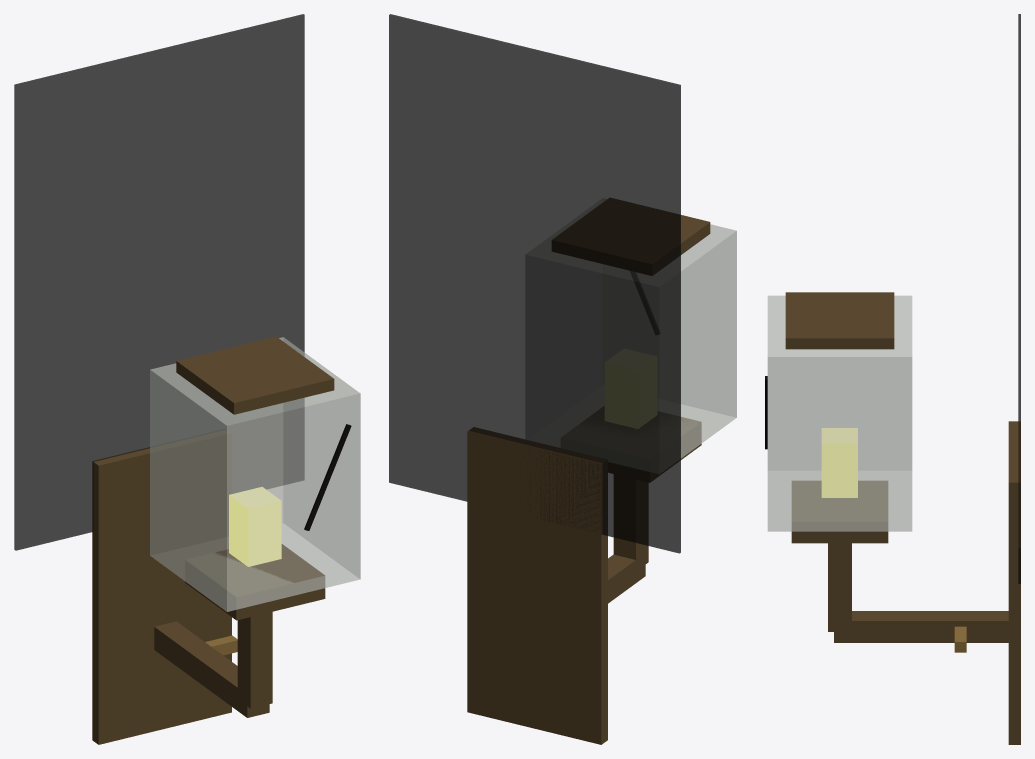
File: gas_wall_sconce.glb
3 renders of one model, left to right at view 1: azimuth 30°, elevation 25°; view 2: azimuth 150°, elevation 25°; view 3: azimuth 270°, elevation 25°, orthographic. The views are drawn at different scales.
Parts seen in each view (by area): view 1: gas_wall_sconce; view 2: gas_wall_sconce; view 3: gas_wall_sconce.
Part boxes in pixels (bbox=[...]): gas_wall_sconce: bbox=[14, 14, 360, 744]; gas_wall_sconce: bbox=[389, 14, 736, 744]; gas_wall_sconce: bbox=[765, 14, 1020, 744].
Bounding box in the file's own units: 0.26 × 0.58 × 0.212.
